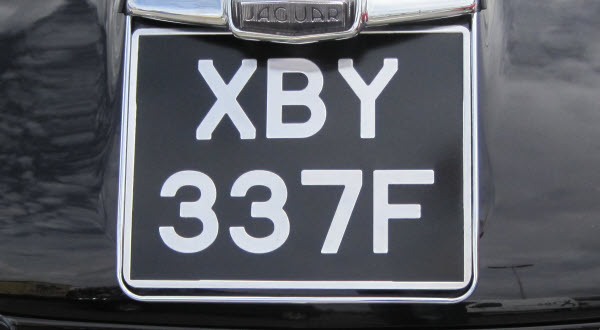license_plate: (125, 26, 472, 289)
